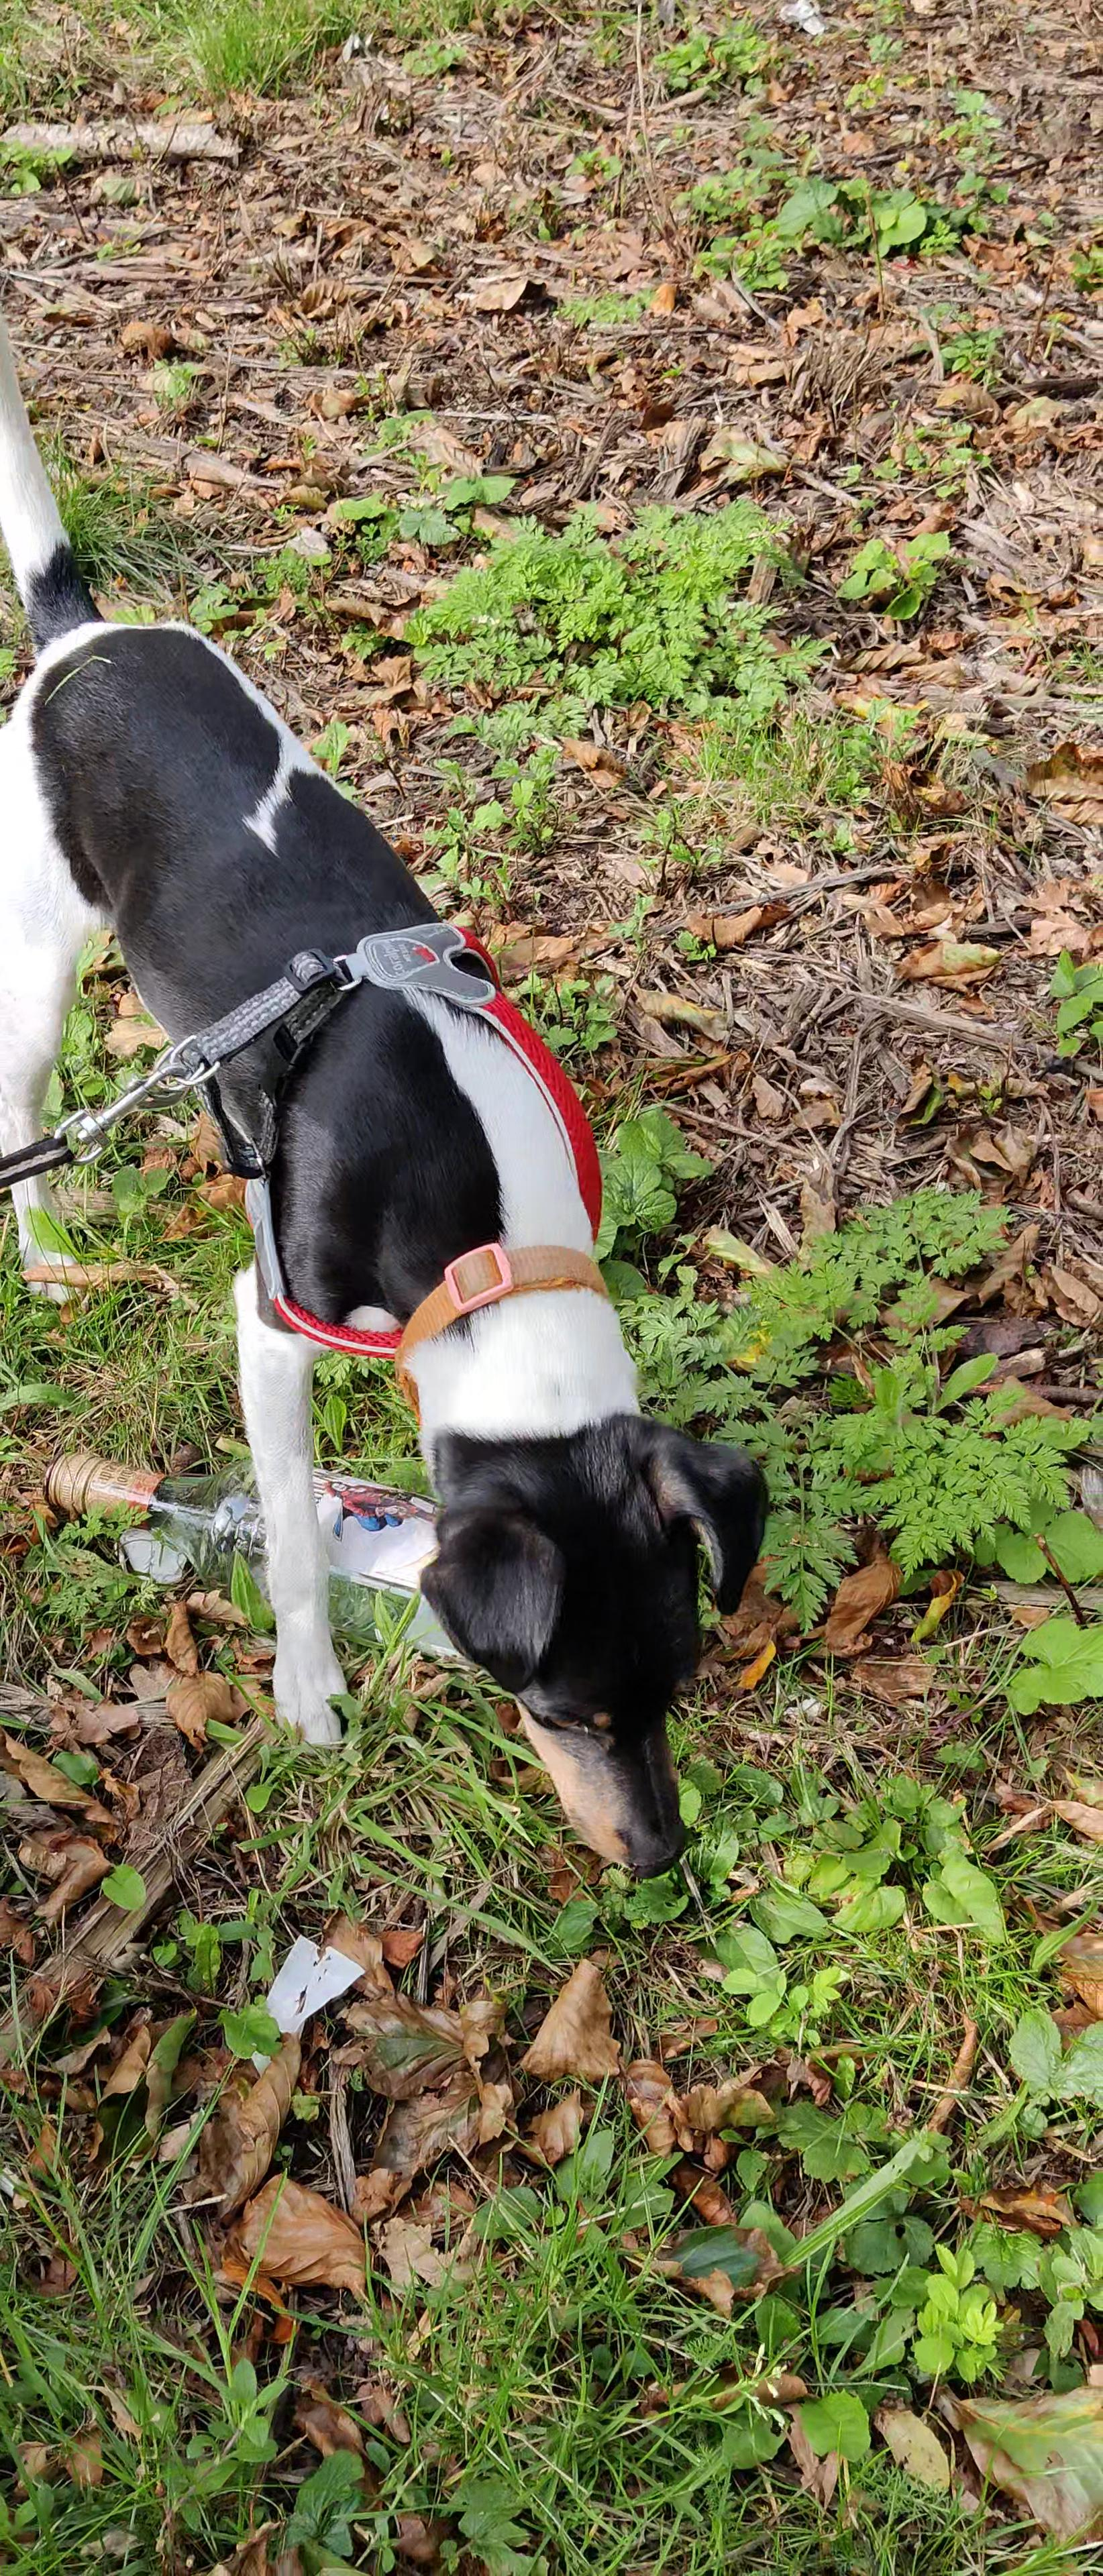Dog: (0, 310, 784, 1883)
